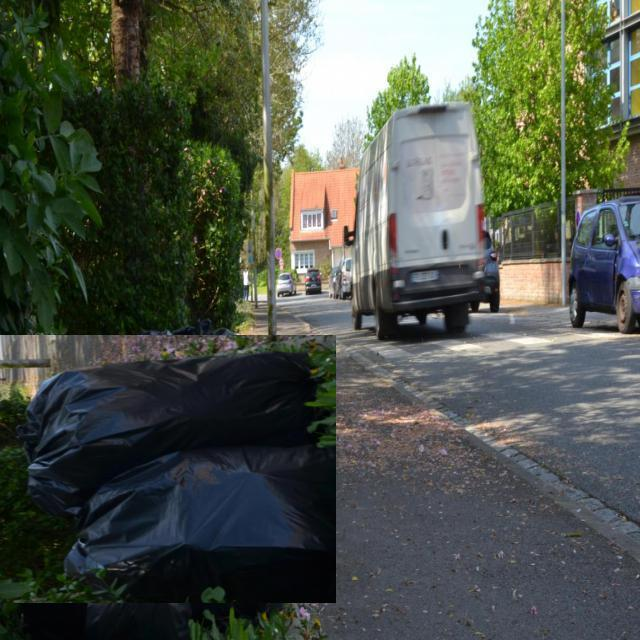Trashbag: (17, 350, 316, 488), (58, 459, 341, 604)
